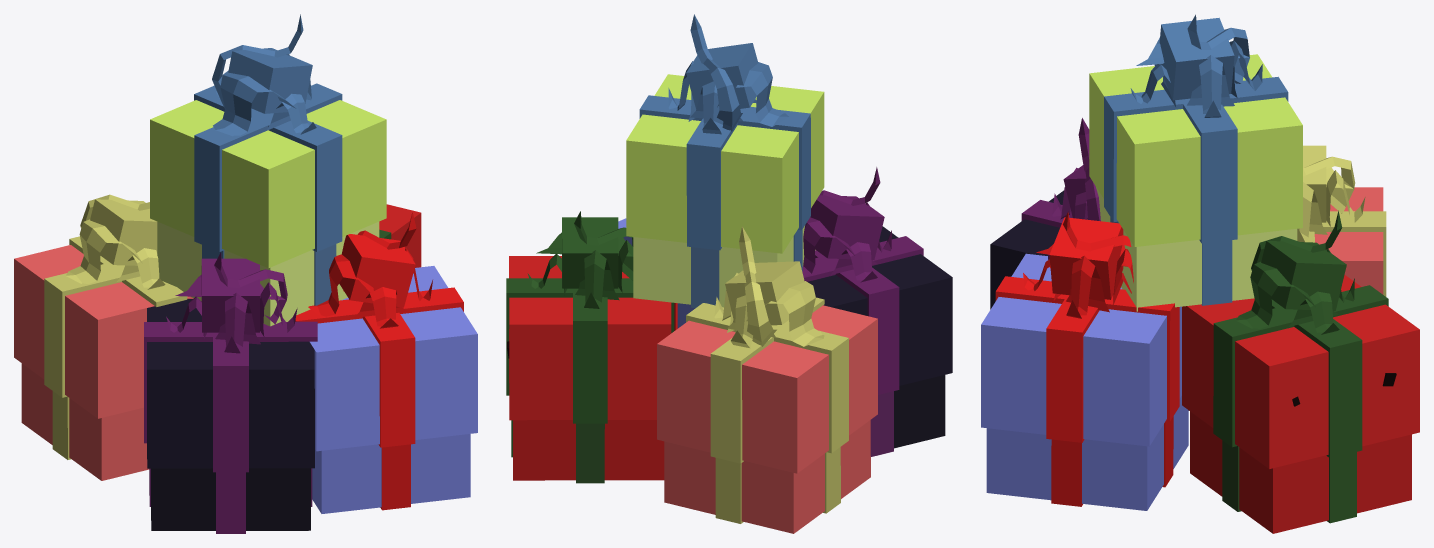
The picture shows the model from 3 angles, left to right: view 1: azimuth 30°, elevation 25°; view 2: azimuth 150°, elevation 25°; view 3: azimuth 270°, elevation 25°; orthographic projection. The views are drawn at different scales.
Parts seen in each view (by area): view 1: Presents.001; view 2: Presents.001; view 3: Presents.001.
Boxes of the visible parts, <box> form: Presents.001: <box>14,14,477,533</box>; Presents.001: <box>506,14,952,533</box>; Presents.001: <box>981,14,1419,533</box>.
Size of the model in its own units: 697 by 780 by 696.
